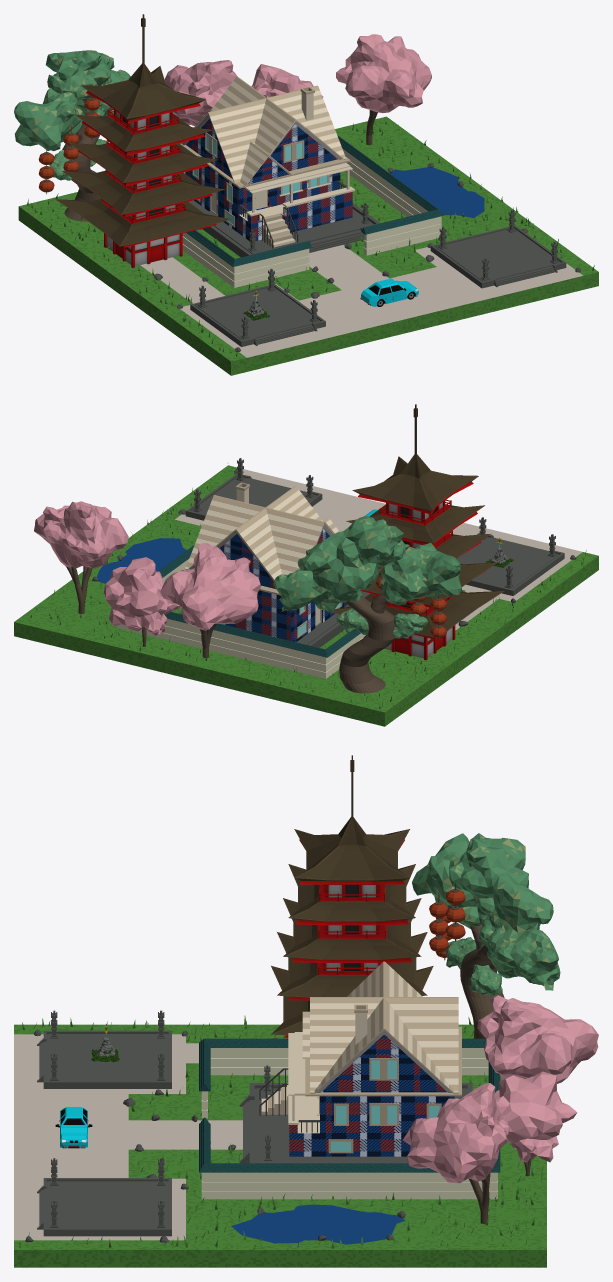
3 renders of one model, top to bottom at view 1: azimuth 30°, elevation 25°; view 2: azimuth 150°, elevation 25°; view 3: azimuth 270°, elevation 25°, orthographic. The views are drawn at different scales.
Visible parts, largest first — view 1: Cube.005, Cube.171, VEHICLES_CAR; view 2: Cube.005, Cube.171; view 3: Cube.005, Cube.171, VEHICLES_CAR.
Boxes of the visible parts, x1=… form: Cube.005: x1=14, y1=14, x2=598, y2=375; Cube.171: x1=179, y1=76, x2=355, y2=248; VEHICLES_CAR: x1=360, y1=278, x2=418, y2=306; Cube.005: x1=14, y1=404, x2=598, y2=726; Cube.171: x1=181, y1=482, x2=347, y2=641; Cube.005: x1=14, y1=755, x2=598, y2=1267; Cube.171: x1=259, y1=961, x2=461, y2=1156; VEHICLES_CAR: x1=55, y1=1107, x2=92, y2=1148.
Size of the model in its own units: 4528 by 2791 by 4389.
Materials: 39 (6 with a texture image).
